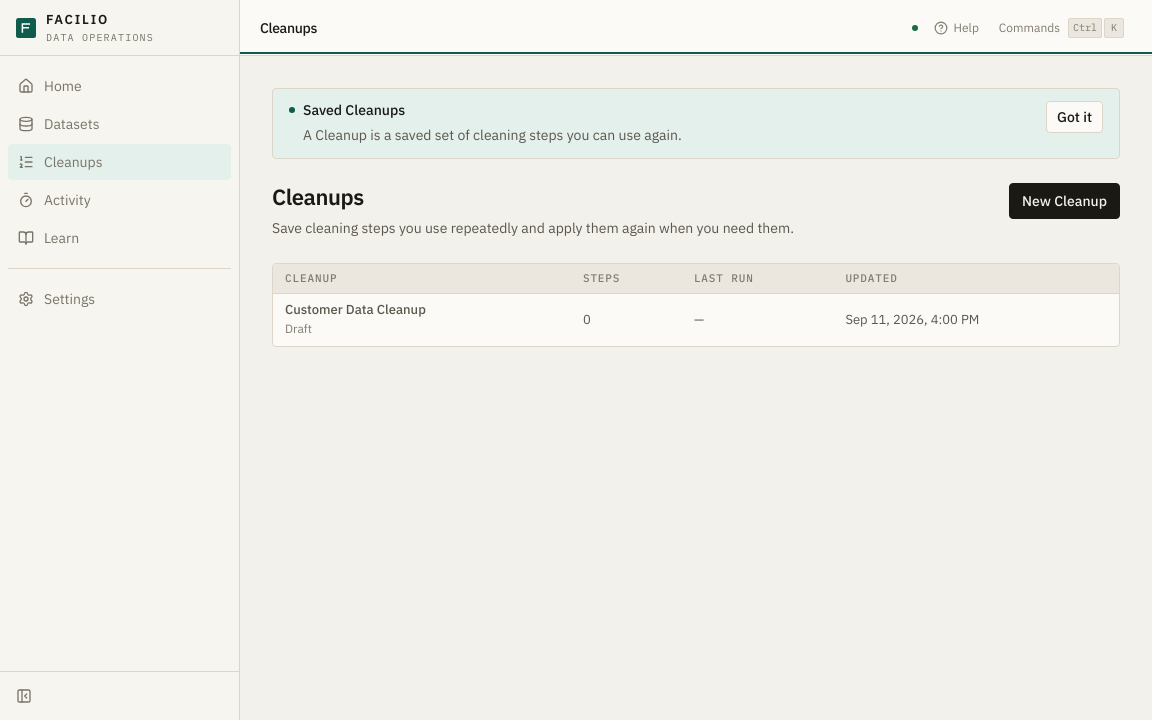
it: creating a workflow opens the builder
Check: the link "Customer Data Cleanup" is shown, box [285,301,426,318]
Step 1. Click the button "New Cleanup" → (1064, 201), box [1009,183,1120,219]
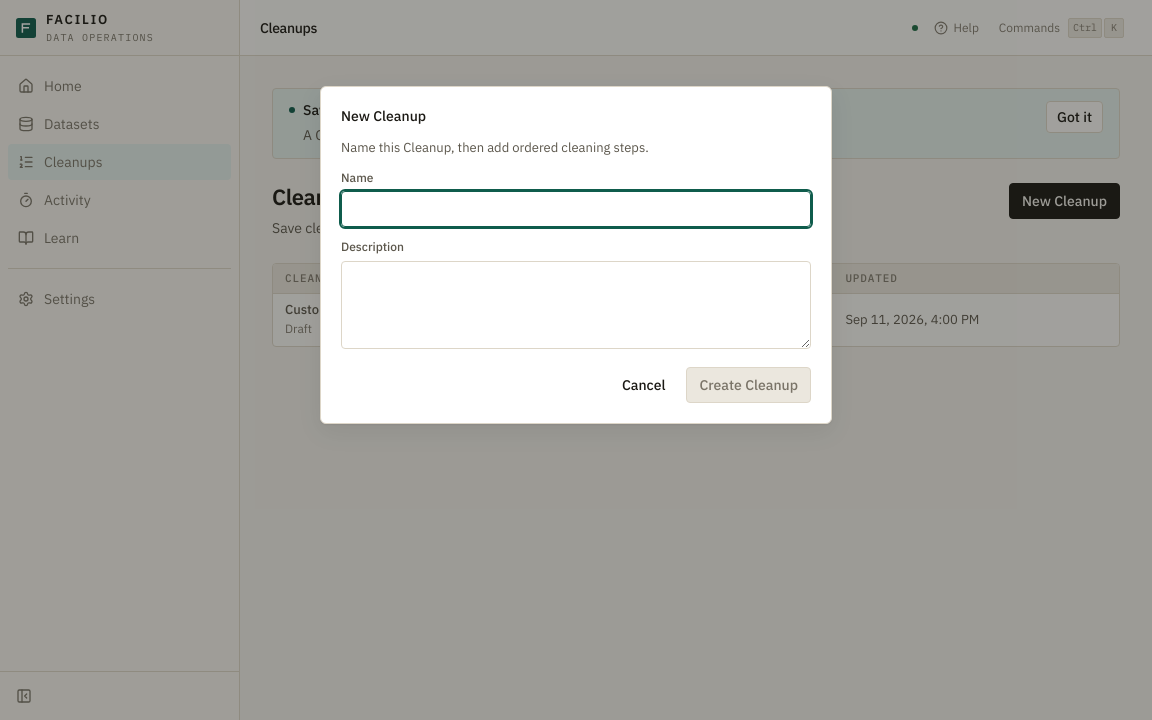
Step 2. Type "Cleanup copy" into the field labelled "Name" → (576, 209), box [341,191,811,227]
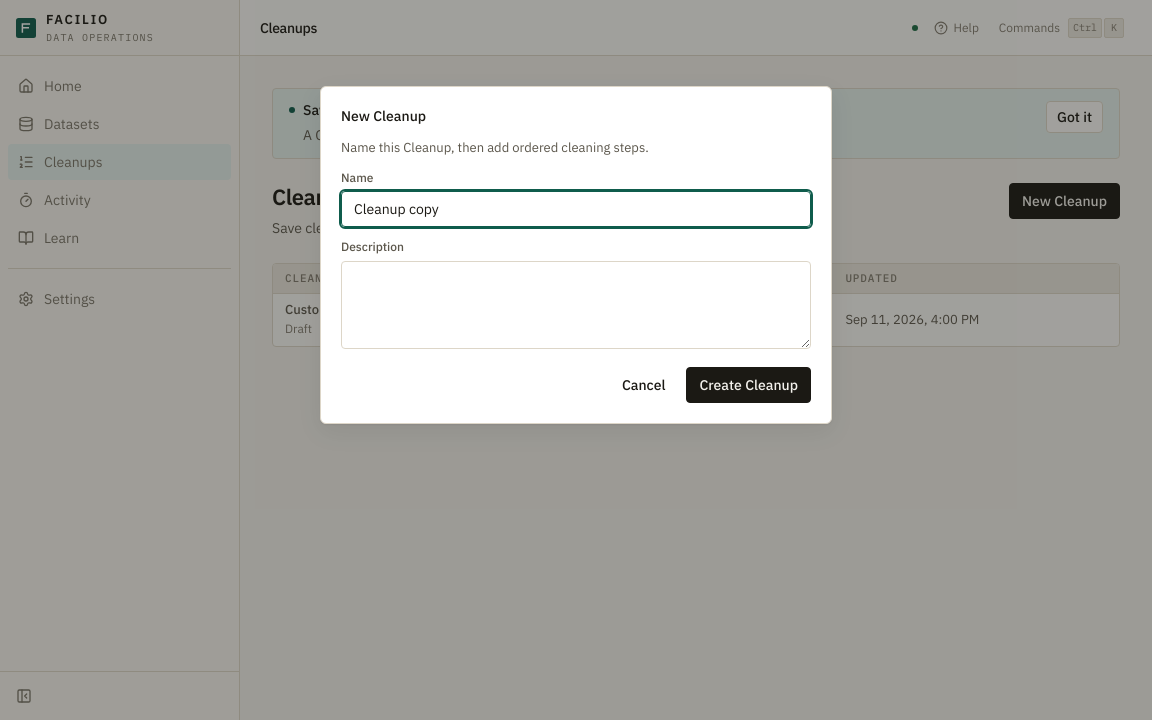
Step 3. Click the button "Create Cleanup" → (749, 385), box [686,367,811,403]
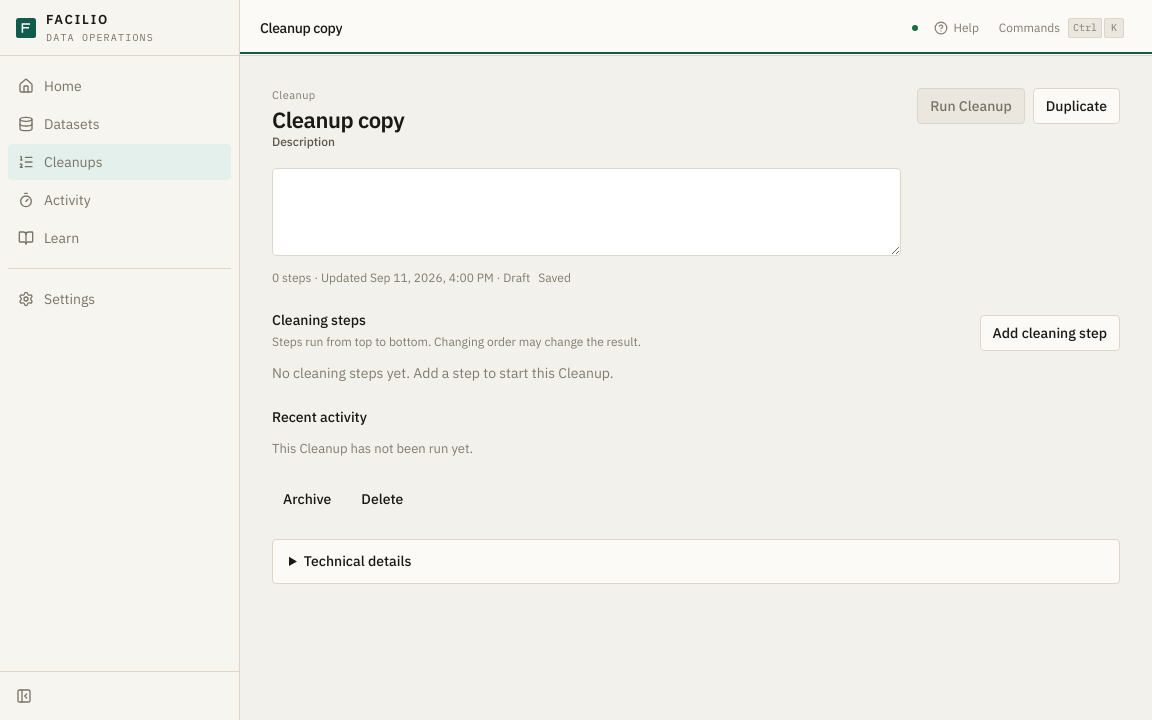
Check: the field named "Cleanup name" is shown, box [272,106,848,134]
Check: the button "Add cleaning step" is shown, box [980,315,1120,351]
Check: the button "Run Cleanup" is disabled, box [917,88,1025,124]
